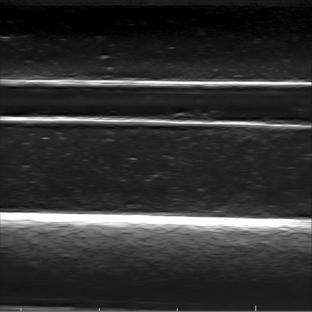vessel: (3, 78, 308, 126)
